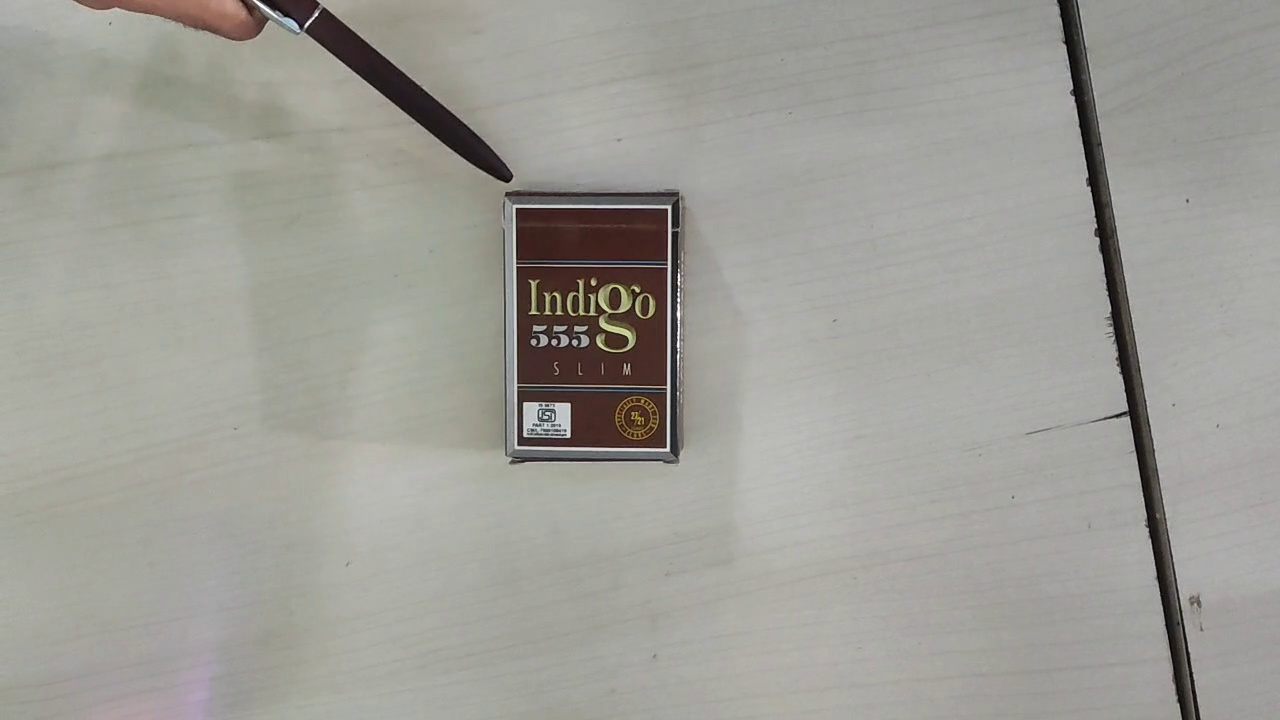BEX: (515, 204, 668, 449)
